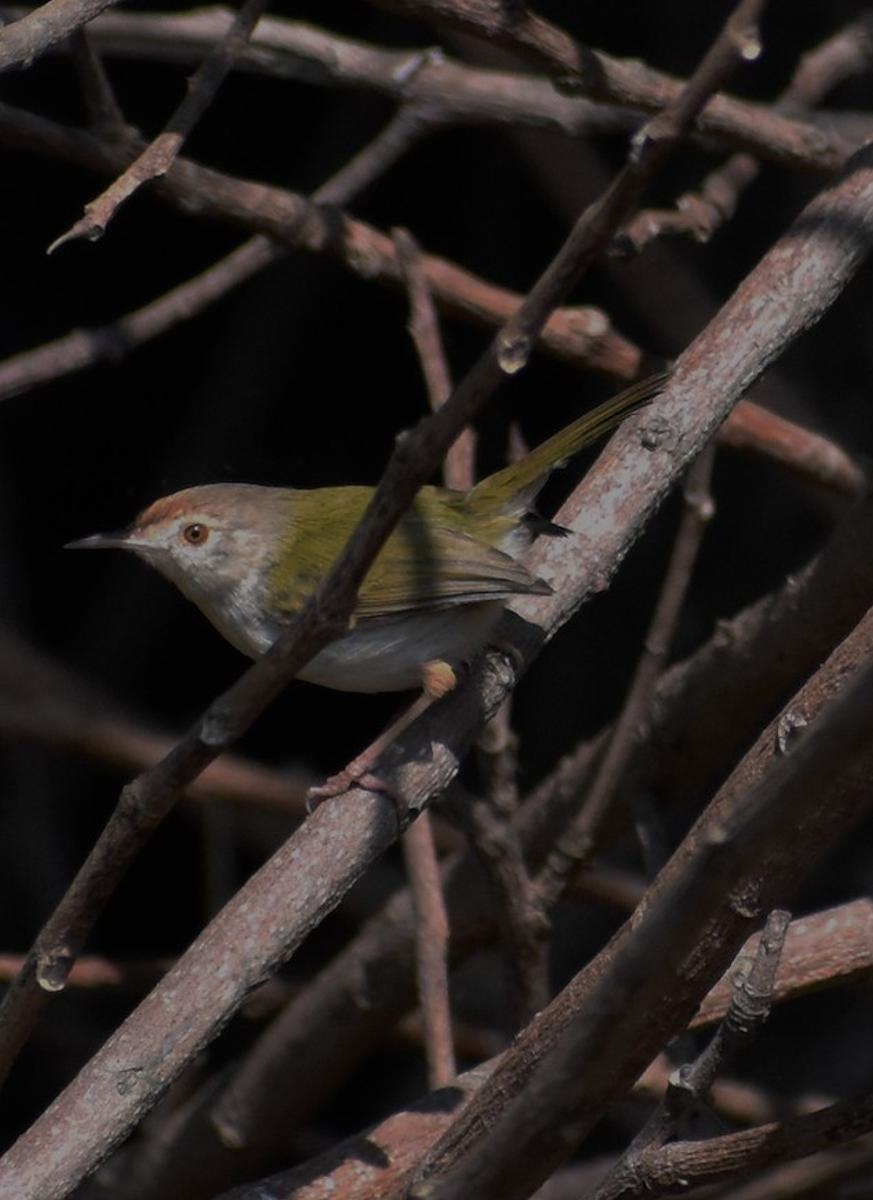tailorbird: (86, 420, 647, 706)
